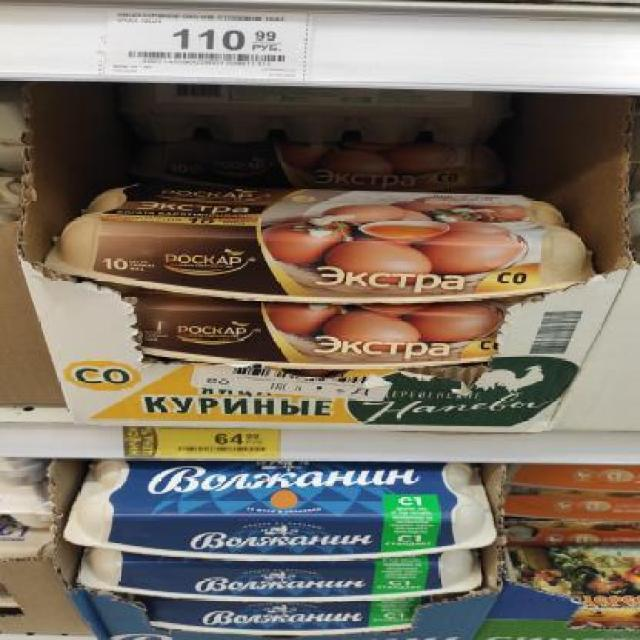Egg: (41, 185, 599, 304), (131, 300, 507, 372), (131, 141, 507, 192)
